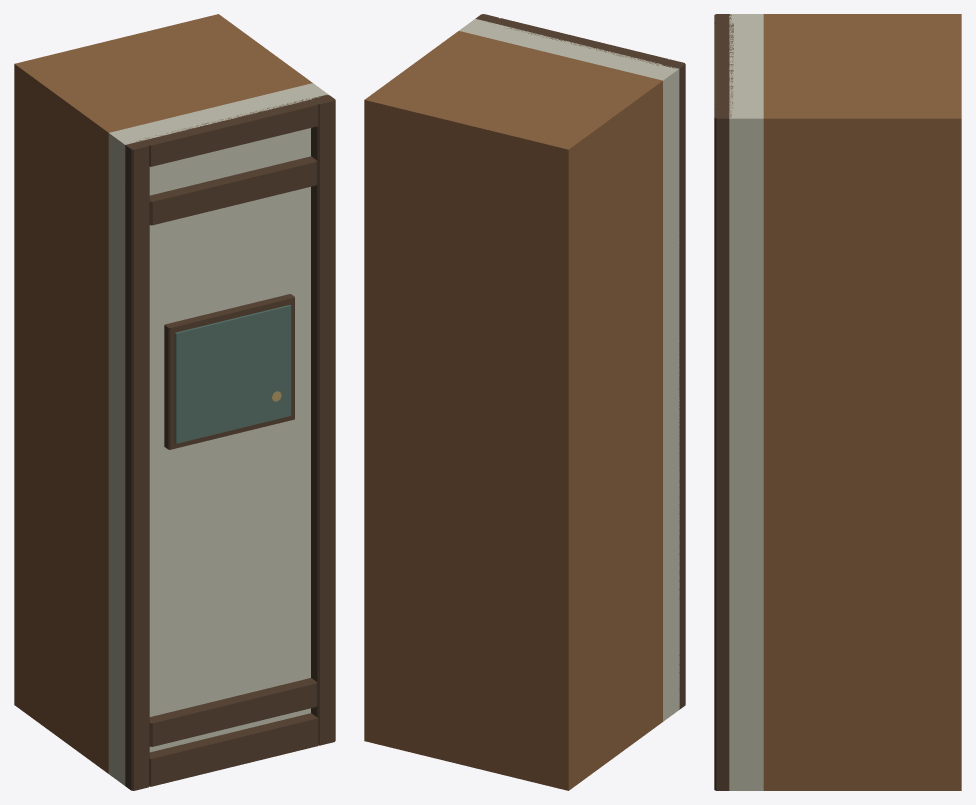
The model's file is wall_shop_b.glb.
3 views of the same model, side by side, from view 1: azimuth 30°, elevation 25°; view 2: azimuth 150°, elevation 25°; view 3: azimuth 270°, elevation 25° (orthographic). The views are drawn at different scales.
Parts seen in each view (by area): view 1: face_front, geometry; view 2: geometry, face_front; view 3: geometry, face_front.
Part boxes in pixels (<box>): face_front: <box>108,83,335,790</box>; geometry: <box>14,14,312,773</box>; geometry: <box>364,31,662,790</box>; face_front: <box>459,14,685,721</box>; geometry: <box>763,14,961,790</box>; face_front: <box>714,14,763,790</box>.
Size of the model in its own units: 1 by 3 by 1.
